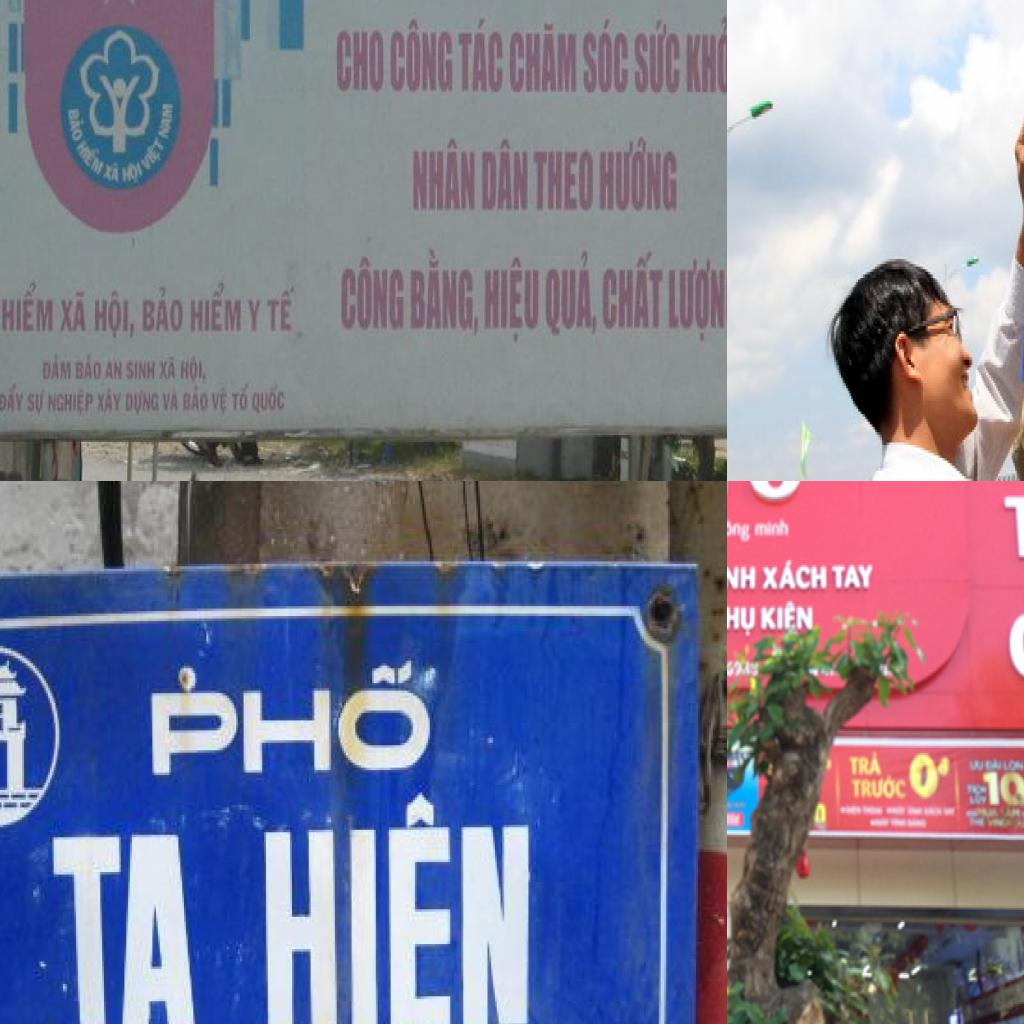text: (139, 648, 443, 790), (35, 822, 223, 1024), (596, 133, 686, 217), (406, 244, 482, 336), (406, 130, 480, 216), (478, 253, 543, 348), (334, 251, 408, 331), (509, 20, 580, 98), (600, 247, 664, 333), (387, 15, 456, 94), (542, 248, 599, 342), (452, 12, 506, 97), (529, 147, 596, 215), (331, 19, 387, 97), (578, 17, 632, 97), (479, 136, 532, 215), (630, 18, 683, 96), (681, 13, 727, 97), (186, 278, 245, 333), (0, 281, 55, 332), (904, 750, 952, 802), (762, 558, 830, 592), (94, 292, 136, 344), (138, 286, 184, 332), (45, 386, 95, 425), (760, 601, 817, 634), (266, 280, 298, 336), (850, 775, 908, 801), (141, 131, 171, 181), (73, 140, 107, 184), (58, 288, 90, 333), (984, 771, 1024, 807), (832, 562, 877, 594), (250, 384, 290, 416), (38, 350, 74, 384), (727, 555, 757, 592), (123, 388, 162, 416), (118, 154, 148, 190), (727, 603, 758, 637), (847, 750, 886, 777), (64, 107, 89, 147), (178, 356, 210, 386), (95, 384, 123, 418), (75, 350, 104, 382), (0, 380, 25, 414), (753, 519, 792, 540), (125, 356, 159, 380), (184, 384, 209, 416), (245, 294, 264, 336), (230, 380, 252, 416), (727, 515, 752, 546), (158, 102, 174, 148), (26, 387, 48, 420), (210, 387, 231, 418), (160, 388, 182, 416), (103, 355, 126, 380), (159, 355, 180, 380), (103, 159, 122, 186), (1002, 754, 1024, 773), (986, 756, 1002, 774), (969, 756, 984, 774)
